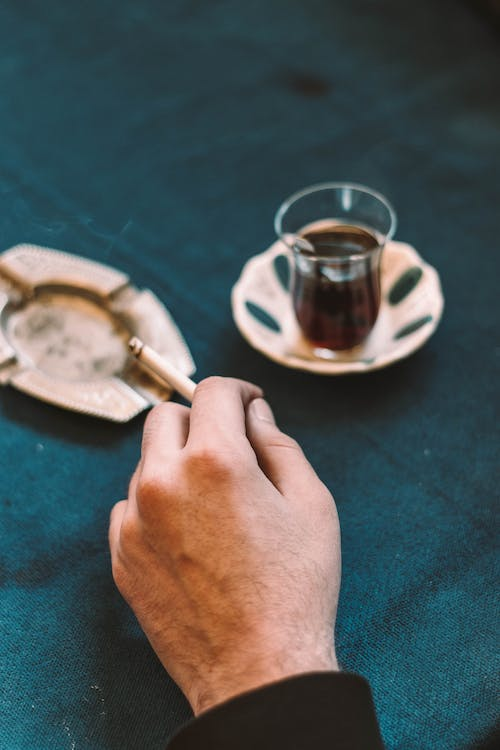cigarette: (123, 331, 203, 404)
